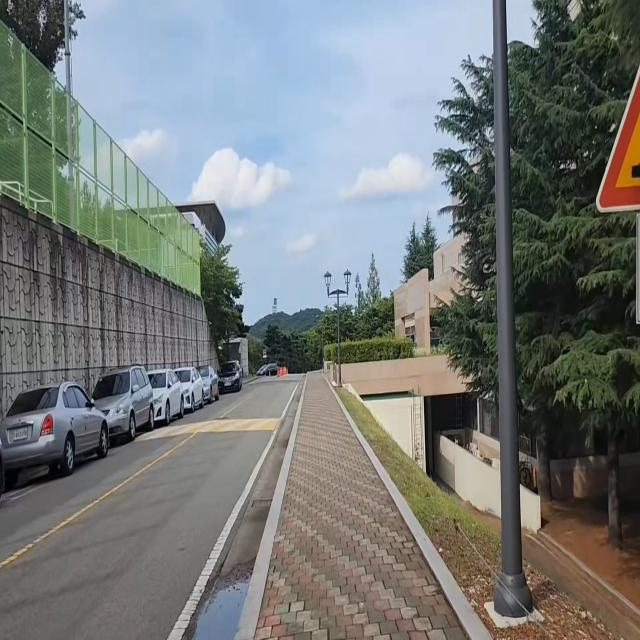obstacle: (490, 0, 538, 622)
road: (0, 378, 307, 640)
sidewalk: (232, 366, 503, 640)
